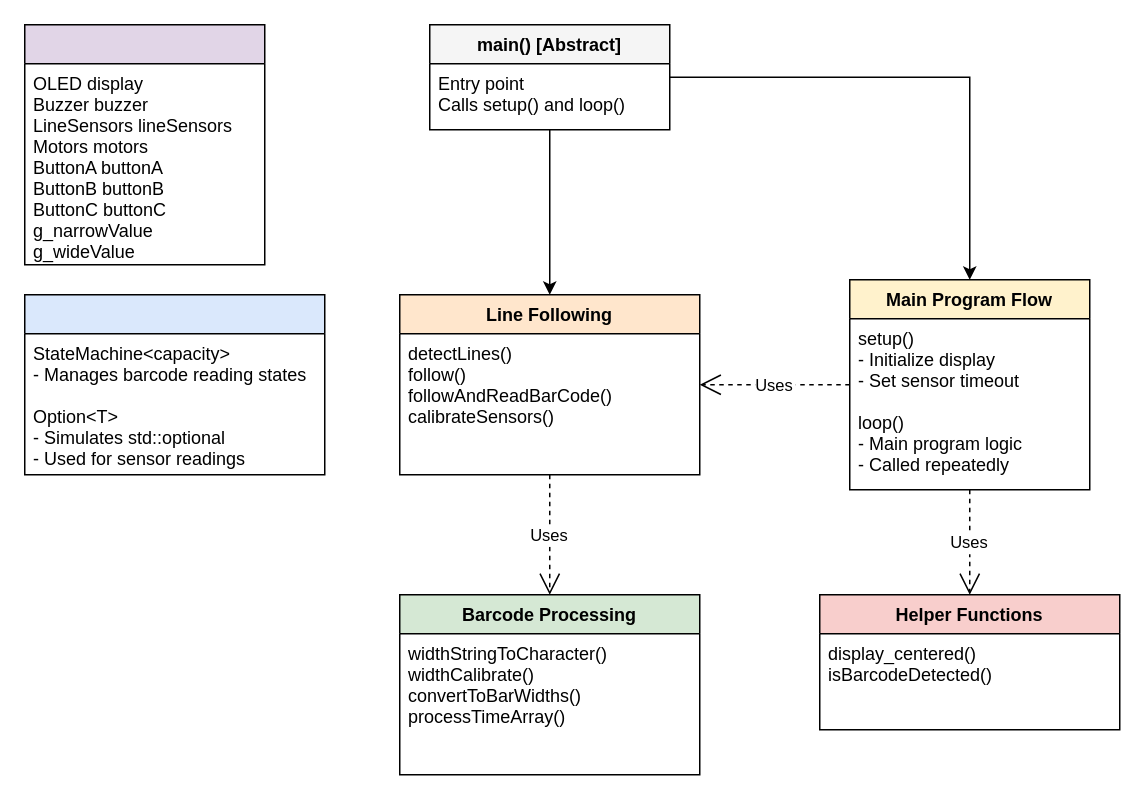
The diagram is 1145 pixels wide and 800 high, and some of its shapes have lost their labels. The shapes that lost their labels are listed below. From the top down, each one's box as (x1, y1, x2, y2) in pixels, then its label:
(23, 23, 265, 265): Global Objects
(23, 293, 325, 475): Classes
